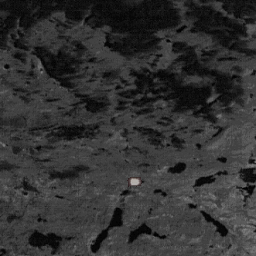Target: (127, 177, 142, 187)
